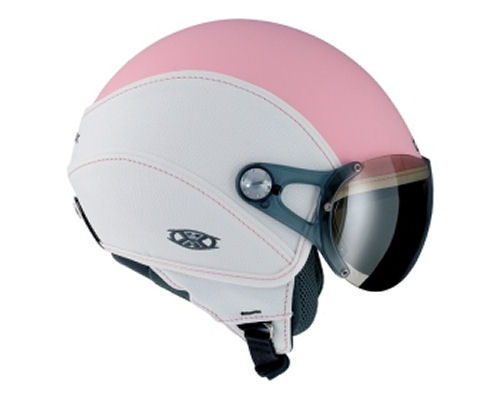helmet: (89, 24, 419, 281)
